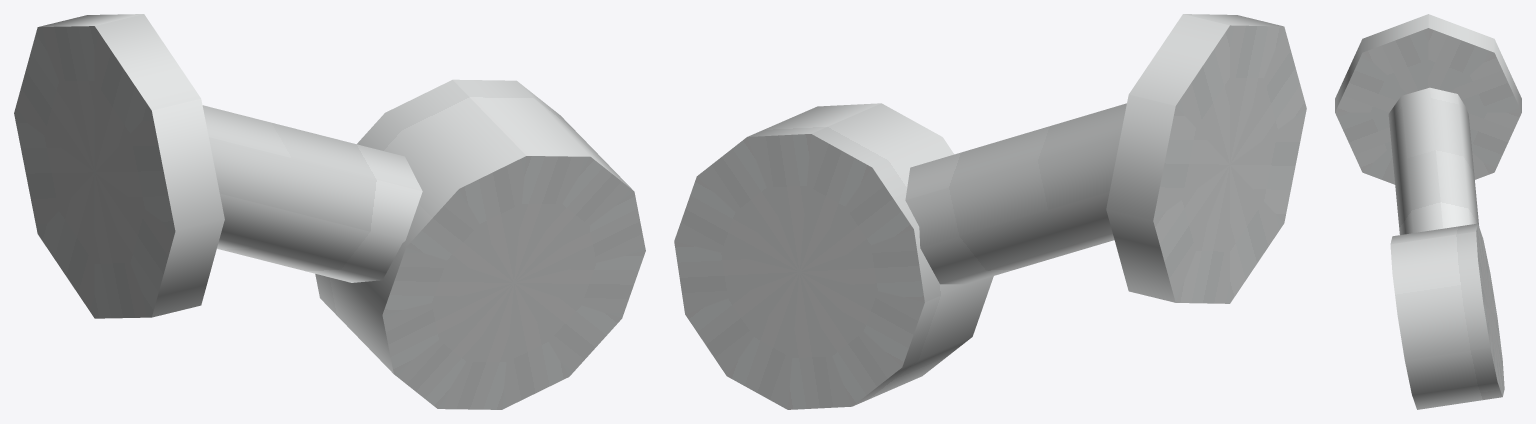
Rendered from nycsignalarm_stub_13.obj.
3 views of the same model, side by side, from view 1: azimuth 30°, elevation 25°; view 2: azimuth 150°, elevation 25°; view 3: azimuth 270°, elevation 25° (orthographic). The views are drawn at different scales.
Parts seen in each view (by area): view 1: nycsignalarm_stub_13; view 2: nycsignalarm_stub_13; view 3: nycsignalarm_stub_13.
Boxes of the visible parts, box(x1,y1,x2,y2) form: nycsignalarm_stub_13: box(14, 14, 645, 409); nycsignalarm_stub_13: box(674, 14, 1306, 409); nycsignalarm_stub_13: box(1335, 14, 1521, 409).
Size of the model in its own units: 0.6643 by 0.5685 by 0.35.
